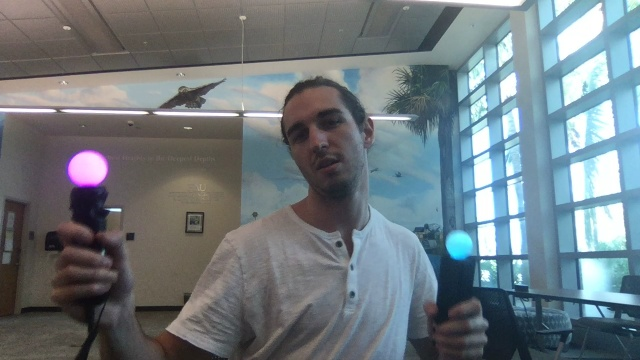wand: (68, 150, 108, 186), (446, 231, 473, 258)
